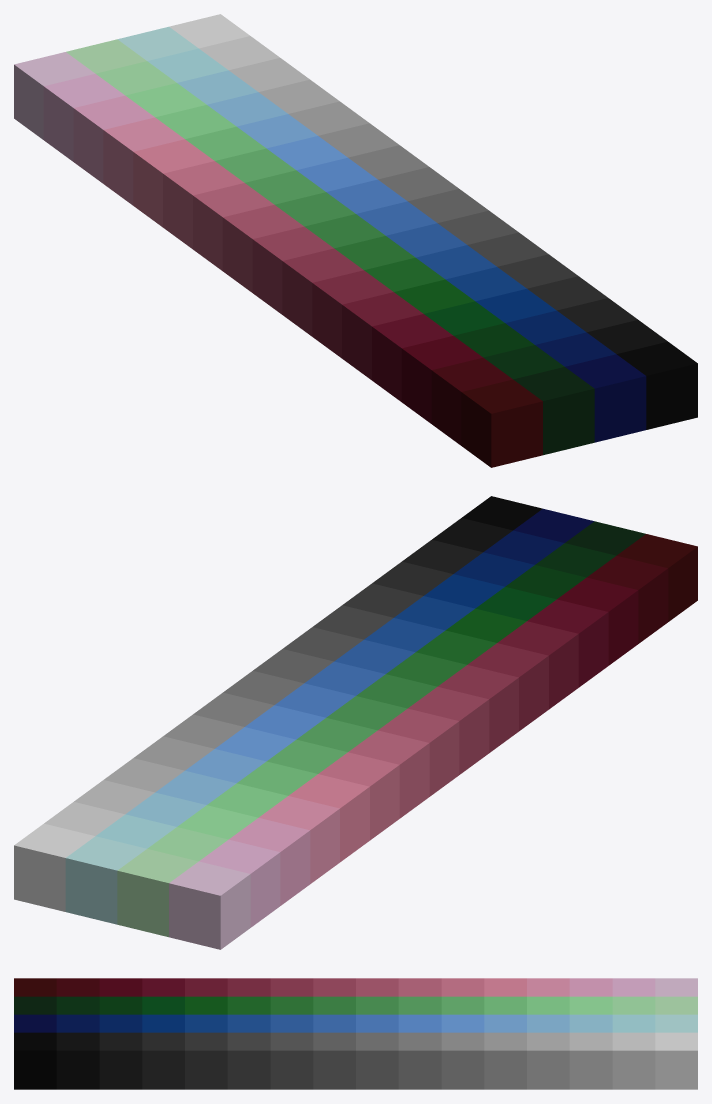
Rendered from Colors-Atari-New.gltf.
3 renders of one model, top to bottom at view 1: azimuth 30°, elevation 25°; view 2: azimuth 150°, elevation 25°; view 3: azimuth 270°, elevation 25°, orthographic. The views are drawn at different scales.
Parts seen in each view (by area): view 1: Layer.1; view 2: Layer.1; view 3: Layer.1.
Boxes of the visible parts, bbox=[...] form: Layer.1: bbox=[14, 14, 697, 467]; Layer.1: bbox=[14, 496, 697, 949]; Layer.1: bbox=[14, 978, 697, 1089].
Size of the model in its own units: 4 by 1 by 16.
